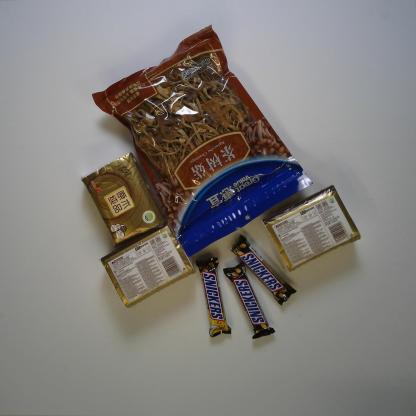Chocolate: (230, 234, 298, 307), (222, 262, 276, 340), (194, 254, 232, 338)
Dried Food: (89, 23, 312, 257)
Tissue: (260, 184, 362, 274), (79, 152, 168, 247), (100, 221, 196, 308)
